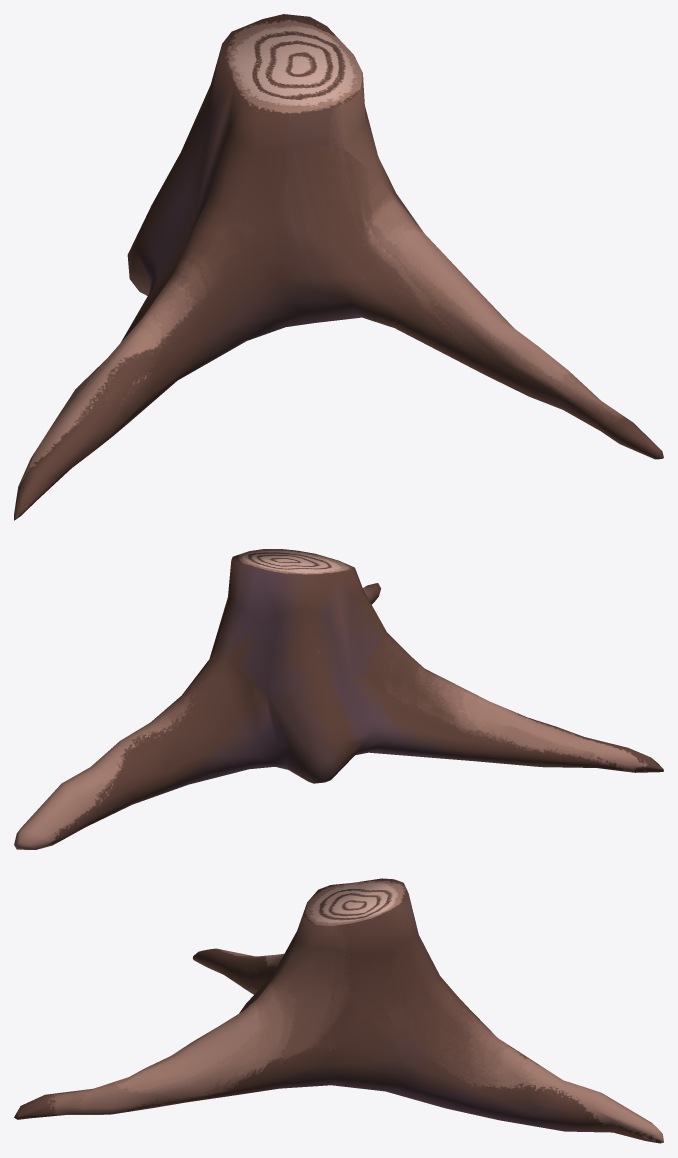
File: SmallTree.fbx
3 renders of one model, top to bottom at view 1: azimuth 30°, elevation 25°; view 2: azimuth 150°, elevation 25°; view 3: azimuth 270°, elevation 25°, orthographic. The views are drawn at different scales.
Parts seen in each view (by area): view 1: Retopo_LP.002; view 2: Retopo_LP.002; view 3: Retopo_LP.002.
Boxes of the visible parts, left/top/right/bottom form: Retopo_LP.002: left=14, top=14, right=663, bottom=520; Retopo_LP.002: left=14, top=549, right=663, bottom=849; Retopo_LP.002: left=14, top=878, right=663, bottom=1143.
Bounding box in the file's own units: 192 × 96.93 × 280.
Materials: 1 (1 with a texture image).
